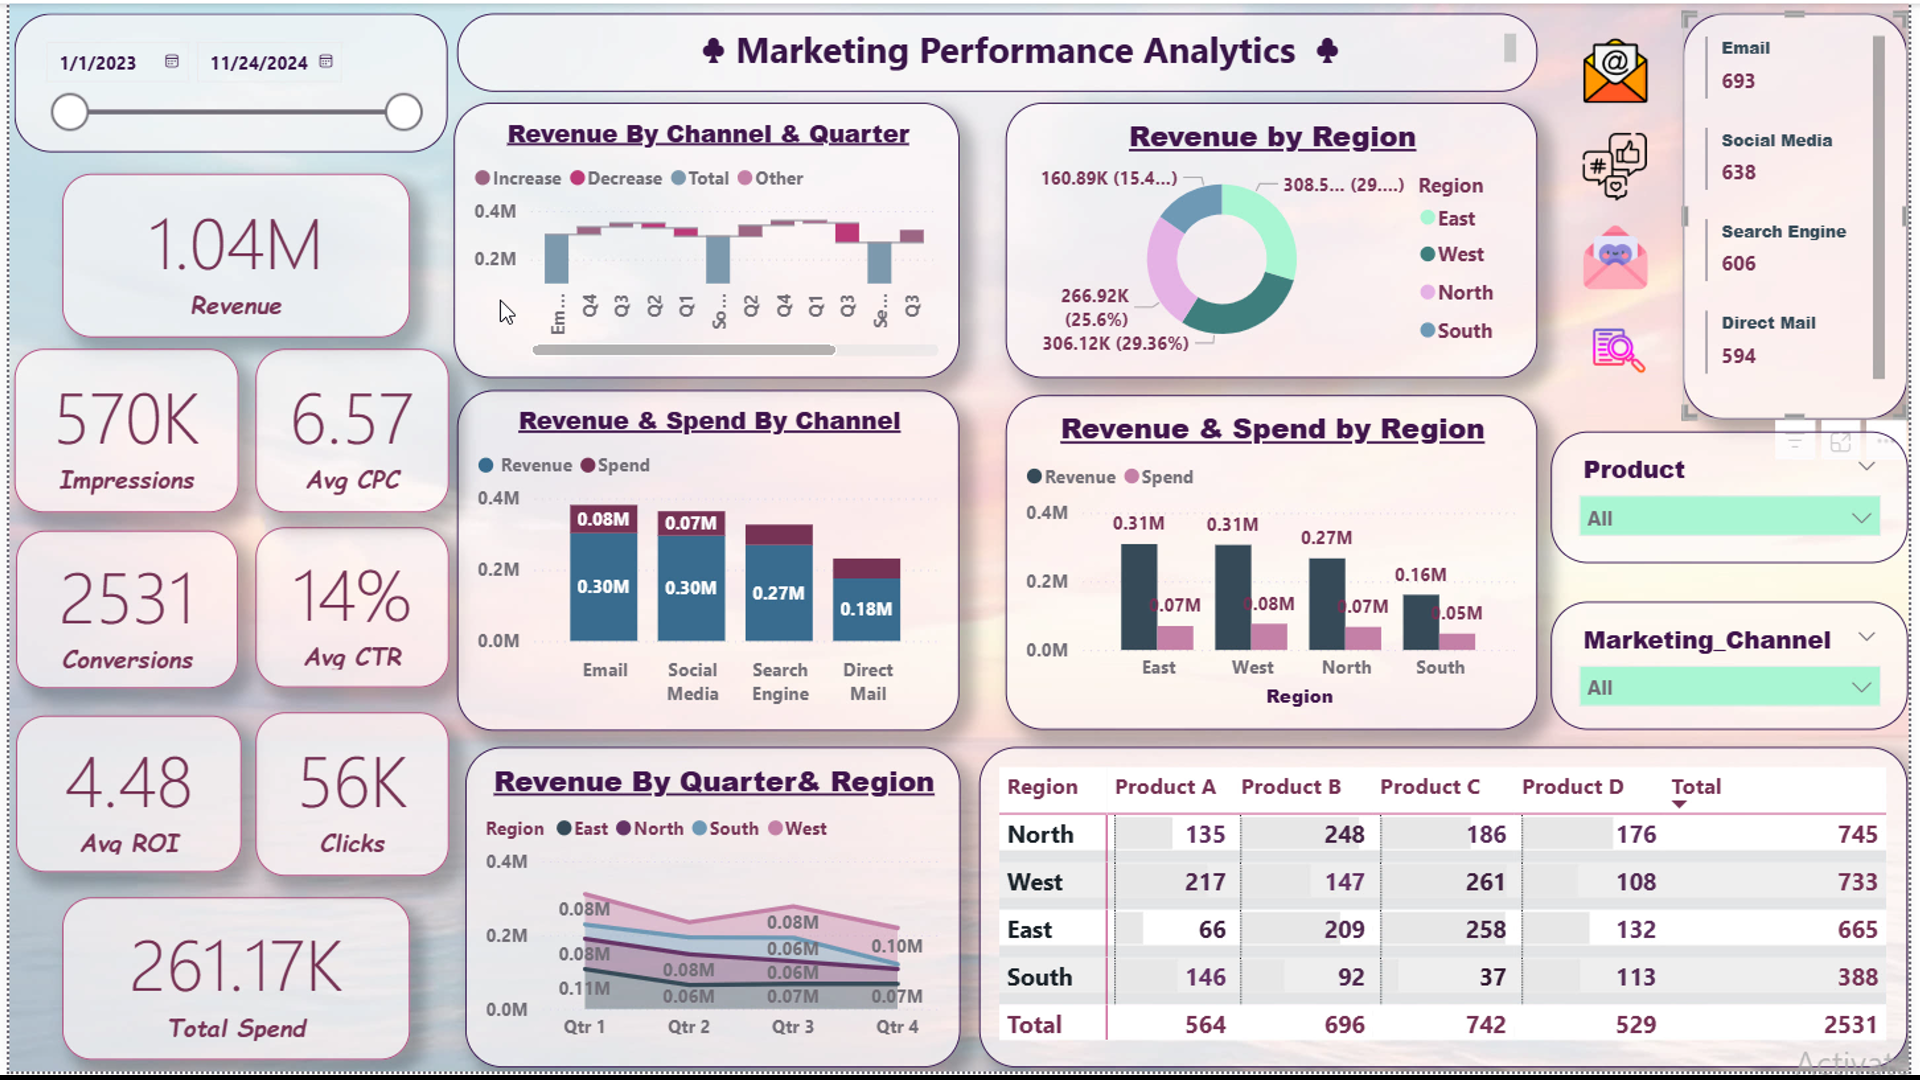

This screenshot's page, from the dashboard's own definition file:
{"tool":"powerbi","page":{"name":"Page 1","canvas":[1280,720],"ordinal":0},"visuals":[{"type":"card","fields":{"Values":["Sum(Sheet1.Revenue)"]},"box":[35.6,114.1,234.4,110.4],"z":0},{"type":"card","fields":{"Values":["Avg(Sheet1.ROI)"]},"box":[4.9,479.8,152.1,105.5],"z":1000},{"type":"card","fields":{"Values":["Sum(Sheet1.Impressions)"]},"box":[3.7,233.1,150.9,110.4],"z":2000},{"type":"card","fields":{"Values":["Sum(Sheet1.Spend)"]},"box":[35.6,602.5,234.4,109.2],"z":3000},{"type":"card","fields":{"Values":["Avg(Sheet1.CTR)"]},"box":[165.6,353.4,130.1,108],"z":4000},{"type":"card","fields":{"Values":["Sum(Sheet1.Clicks)"]},"box":[165.6,477.3,130.1,110.4],"z":5000},{"type":"card","fields":{"Values":["Sum(Sheet1.Conversions)"]},"box":[4.9,354.6,149.7,106.7],"z":6000},{"type":"donutChart","fields":{"Category":["Sheet1.Region"],"Y":["Sum(Sheet1.Revenue)"]},"box":[671.2,66.3,358.3,185.3],"z":7000},{"type":"slicer","fields":{"Values":["Sheet1.Date"]},"box":[3.7,6.1,292,93.3],"z":8000},{"type":"textbox","box":[301.8,6.1,727.6,52.8],"z":9000},{"type":"waterfallChart","title":"Revenue By Channel & Quarter","fields":{"Y":["Sum(Sheet1.Revenue)"],"Category":["Sheet1.Marketing_Channel"],"Breakdown":["Sheet1.Quarter"]},"box":[299.4,66.3,341.1,185.3],"z":10000},{"type":"columnChart","title":"Revenue & Spend By Channel","fields":{"Y":["Sum(Sheet1.Revenue)","Sum(Sheet1.Spend)"],"Category":["Sheet1.Marketing_Channel"]},"box":[301.8,260.1,338.7,229.4],"z":11000},{"type":"card","fields":{"Values":["Avg(Sheet1.CPC)"]},"box":[165.6,233.1,130.1,110.4],"z":12000},{"type":"clusteredColumnChart","title":"Revenue & Spend by Region","fields":{"Category":["Sheet1.Region"],"Y":["Sum(Sheet1.Revenue)","Sum(Sheet1.Spend)"]},"box":[671.2,263.8,358.3,225.8],"z":13000},{"type":"stackedAreaChart","title":"Revenue By Quarter& Region","fields":{"Category":["Sheet1.Date.Variation.Date Hierarchy.Quarter"],"Y":["Sum(Sheet1.Revenue)"],"Series":["Sheet1.Region"]},"box":[306.8,500.6,333.7,216],"z":14000},{"type":"pivotTable","fields":{"Rows":["Sheet1.Region"],"Columns":["Sheet1.Product"],"Values":["Sum(Sheet1.Conversions)"]},"box":[654,500.6,625.8,216],"z":15000},{"type":"multiRowCard","fields":{"Values":["Sum(Sheet1.Conversions)","Sheet1.Marketing_Channel"]},"box":[1127.9,6.1,151.1,274],"z":16000},{"type":"slicer","fields":{"Values":["Sheet1.Marketing_Channel"]},"box":[1038.2,403,240.8,86],"z":17000},{"type":"slicer","fields":{"Values":["Sheet1.Product"]},"box":[1038.2,288.7,240.8,88.5],"z":18000},{"type":"image","box":[1054,18.4,55.2,52.8],"z":19000},{"type":"image","box":[1054,77.3,55.2,66.3],"z":20000},{"type":"image","box":[1057.7,211,54,45.4],"z":21000},{"type":"image","box":[1054,144.8,55.2,52.8],"z":22000}]}

Visuals, with their boxes in screenshot pixels (x1, y1, x2, y2), scaled from the page's 1280x720 canvas onto the 1920x1080 screenshot:
card - Sum(Sheet1.Revenue): <box>53,171,405,337</box>
card - Avg(Sheet1.ROI): <box>7,720,236,878</box>
card - Sum(Sheet1.Impressions): <box>6,350,232,515</box>
card - Sum(Sheet1.Spend): <box>53,904,405,1068</box>
card - Avg(Sheet1.CTR): <box>248,530,444,692</box>
card - Sum(Sheet1.Clicks): <box>248,716,444,882</box>
card - Sum(Sheet1.Conversions): <box>7,532,232,692</box>
donutChart - Sheet1.Region x Sum(Sheet1.Revenue): <box>1007,99,1544,377</box>
slicer - Sheet1.Date: <box>6,9,444,149</box>
textbox: <box>453,9,1544,88</box>
"Revenue By Channel & Quarter" waterfallChart: <box>449,99,961,377</box>
"Revenue & Spend By Channel" columnChart: <box>453,390,961,734</box>
card - Avg(Sheet1.CPC): <box>248,350,444,515</box>
"Revenue & Spend by Region" clusteredColumnChart: <box>1007,396,1544,734</box>
"Revenue By Quarter& Region" stackedAreaChart: <box>460,751,961,1075</box>
pivotTable - Sheet1.Region x Sheet1.Product: <box>981,751,1919,1075</box>
multiRowCard - Sum(Sheet1.Conversions) x Sheet1.Marketing_Channel: <box>1692,9,1918,420</box>
slicer - Sheet1.Marketing_Channel: <box>1557,604,1918,734</box>
slicer - Sheet1.Product: <box>1557,433,1918,566</box>
image: <box>1581,28,1664,107</box>
image: <box>1581,116,1664,215</box>
image: <box>1587,316,1668,385</box>
image: <box>1581,217,1664,296</box>
